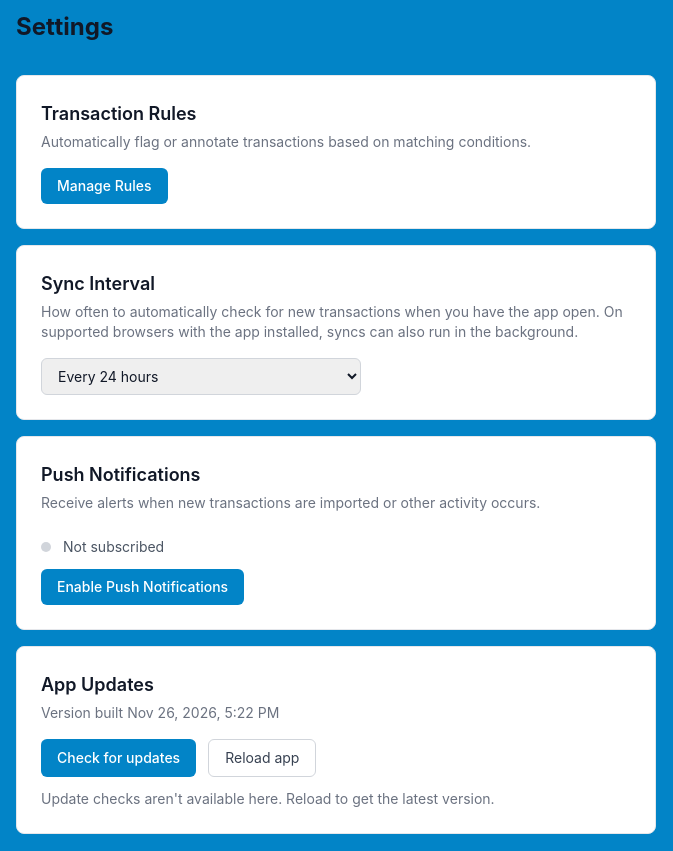
Settings page › shows denied state when subscribeToPush returns null due to denied permission
Step 1. Click the button "Enable Push Notifications" → click(143, 587), box 41,569 -> 244,605
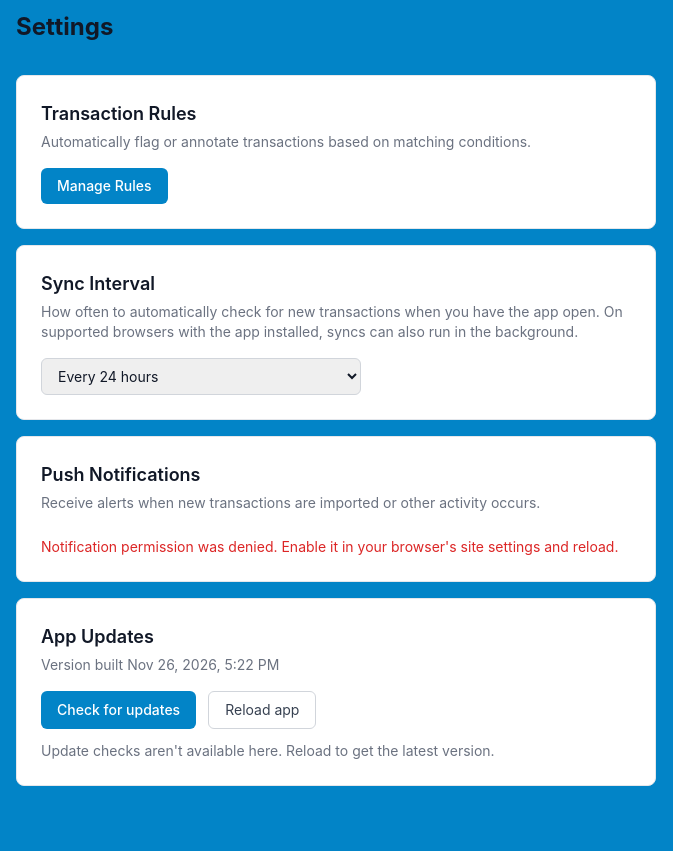
Result: the text "permission was denied" is shown at 41,538 -> 618,555
